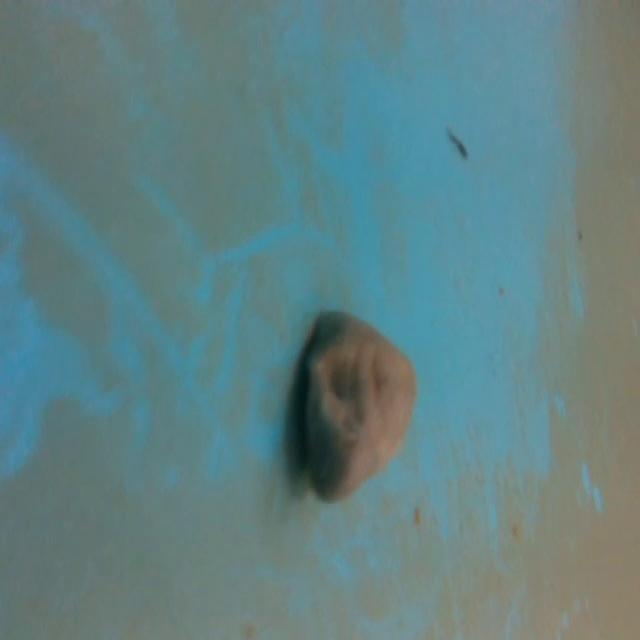rock: (294, 302, 424, 516)
